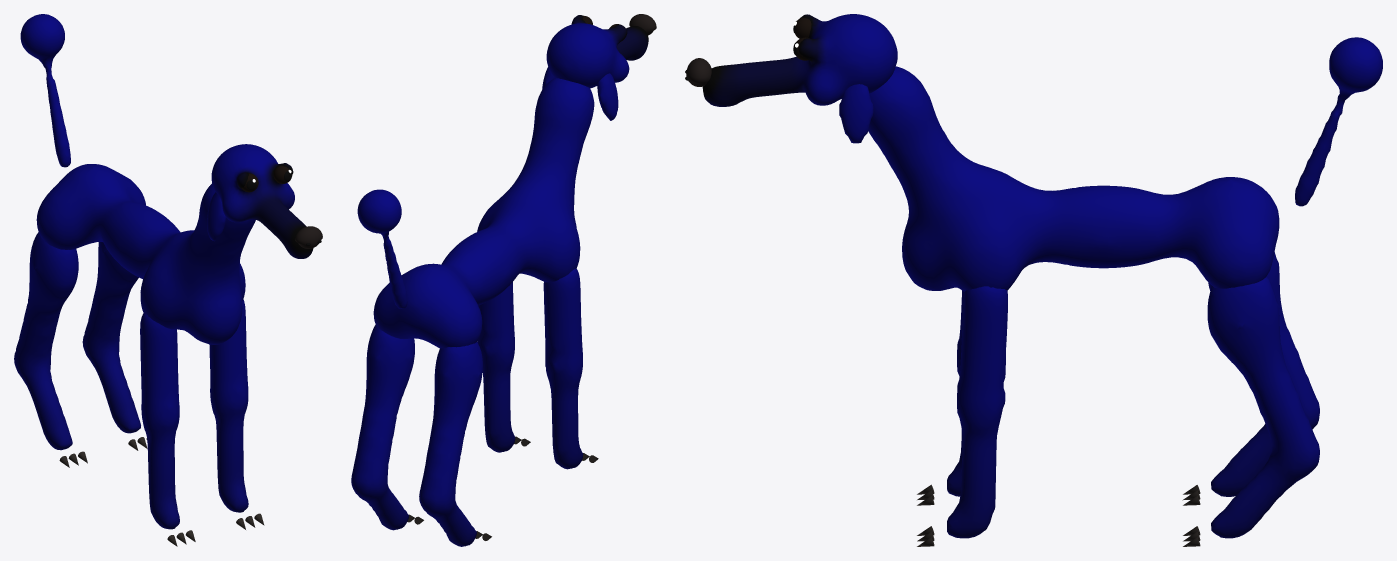
File: pet_poodle.glb
3 renders of one model, left to right at view 1: azimuth 30°, elevation 25°; view 2: azimuth 150°, elevation 25°; view 3: azimuth 270°, elevation 25°, orthographic. The views are drawn at different scales.
Parts seen in each view (by area): view 1: Fur_Body, Fur_LegBL, Fur_LegFL, Fur_Head, Fur_LegFR, Fur_LegBR, Fur_Tail, Fur_EarL, Nose; view 2: Fur_Body, Fur_LegBL, Fur_LegBR, Fur_LegFL, Fur_Head, Fur_LegFR, Fur_Tail, Fur_EarL; view 3: Fur_Body, Fur_LegBR, Fur_Head, Fur_LegFR, Fur_Tail, Fur_LegBL, Fur_EarR.
Part boxes in pixels (x1,y1,x2,y2): Fur_Body: [36, 164, 255, 344]; Fur_LegBL: [14, 232, 78, 450]; Fur_LegFL: [140, 313, 179, 529]; Fur_Head: [211, 144, 313, 258]; Fur_LegFR: [209, 299, 248, 512]; Fur_LegBR: [82, 242, 140, 433]; Fur_Tail: [20, 14, 70, 167]; Fur_EarL: [207, 192, 226, 241]; Nose: [295, 226, 322, 248]; Fur_Body: [373, 78, 594, 348]; Fur_LegBL: [419, 342, 482, 546]; Fur_LegBR: [351, 324, 414, 530]; Fur_LegFL: [543, 268, 583, 469]; Fur_Head: [546, 15, 648, 88]; Fur_LegFR: [477, 282, 515, 452]; Fur_Tail: [357, 189, 407, 308]; Fur_EarL: [597, 73, 618, 120]; Fur_Body: [868, 66, 1279, 291]; Fur_LegBR: [1207, 277, 1319, 538]; Fur_Head: [702, 14, 897, 106]; Fur_LegFR: [947, 286, 1007, 538]; Fur_Tail: [1295, 37, 1382, 206]; Fur_LegBL: [1208, 252, 1319, 496]; Fur_EarR: [839, 84, 873, 143].
Bounding box in the file's own units: 0.1594 × 0.5669 × 0.7139.
